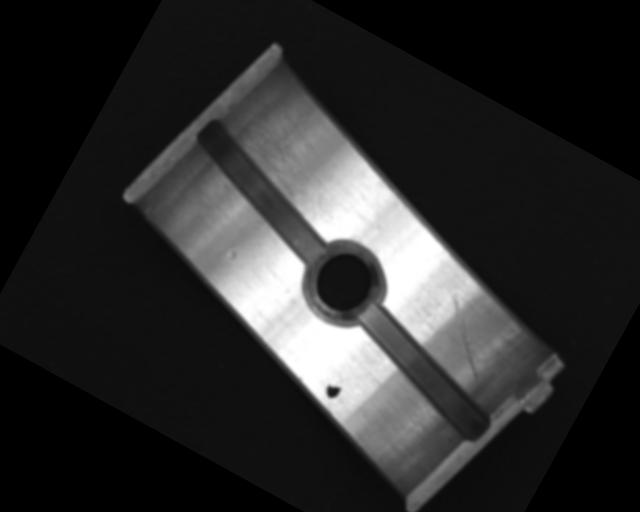blot: (322, 376, 345, 402)
bruise: (225, 248, 239, 262)
gap: (171, 117, 354, 269), (332, 300, 514, 446)
hole: (292, 232, 394, 337)
nick: (421, 291, 511, 382)
scratch: (208, 87, 373, 233)
